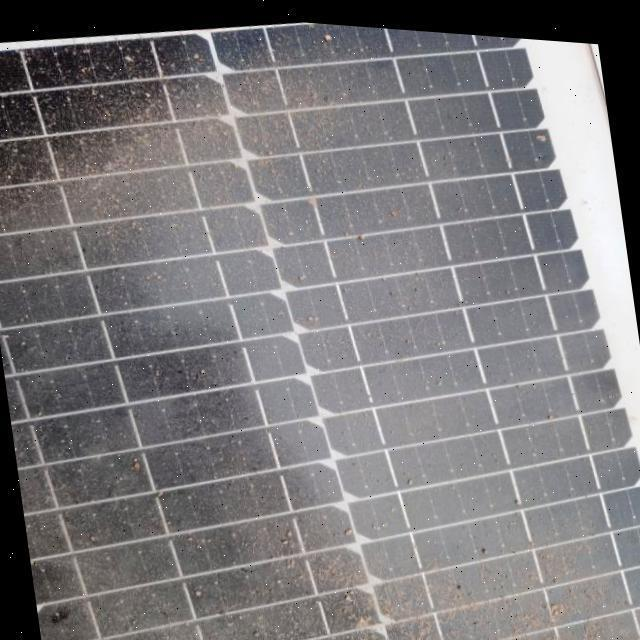Surface Contaminant: (0, 20, 638, 640)
